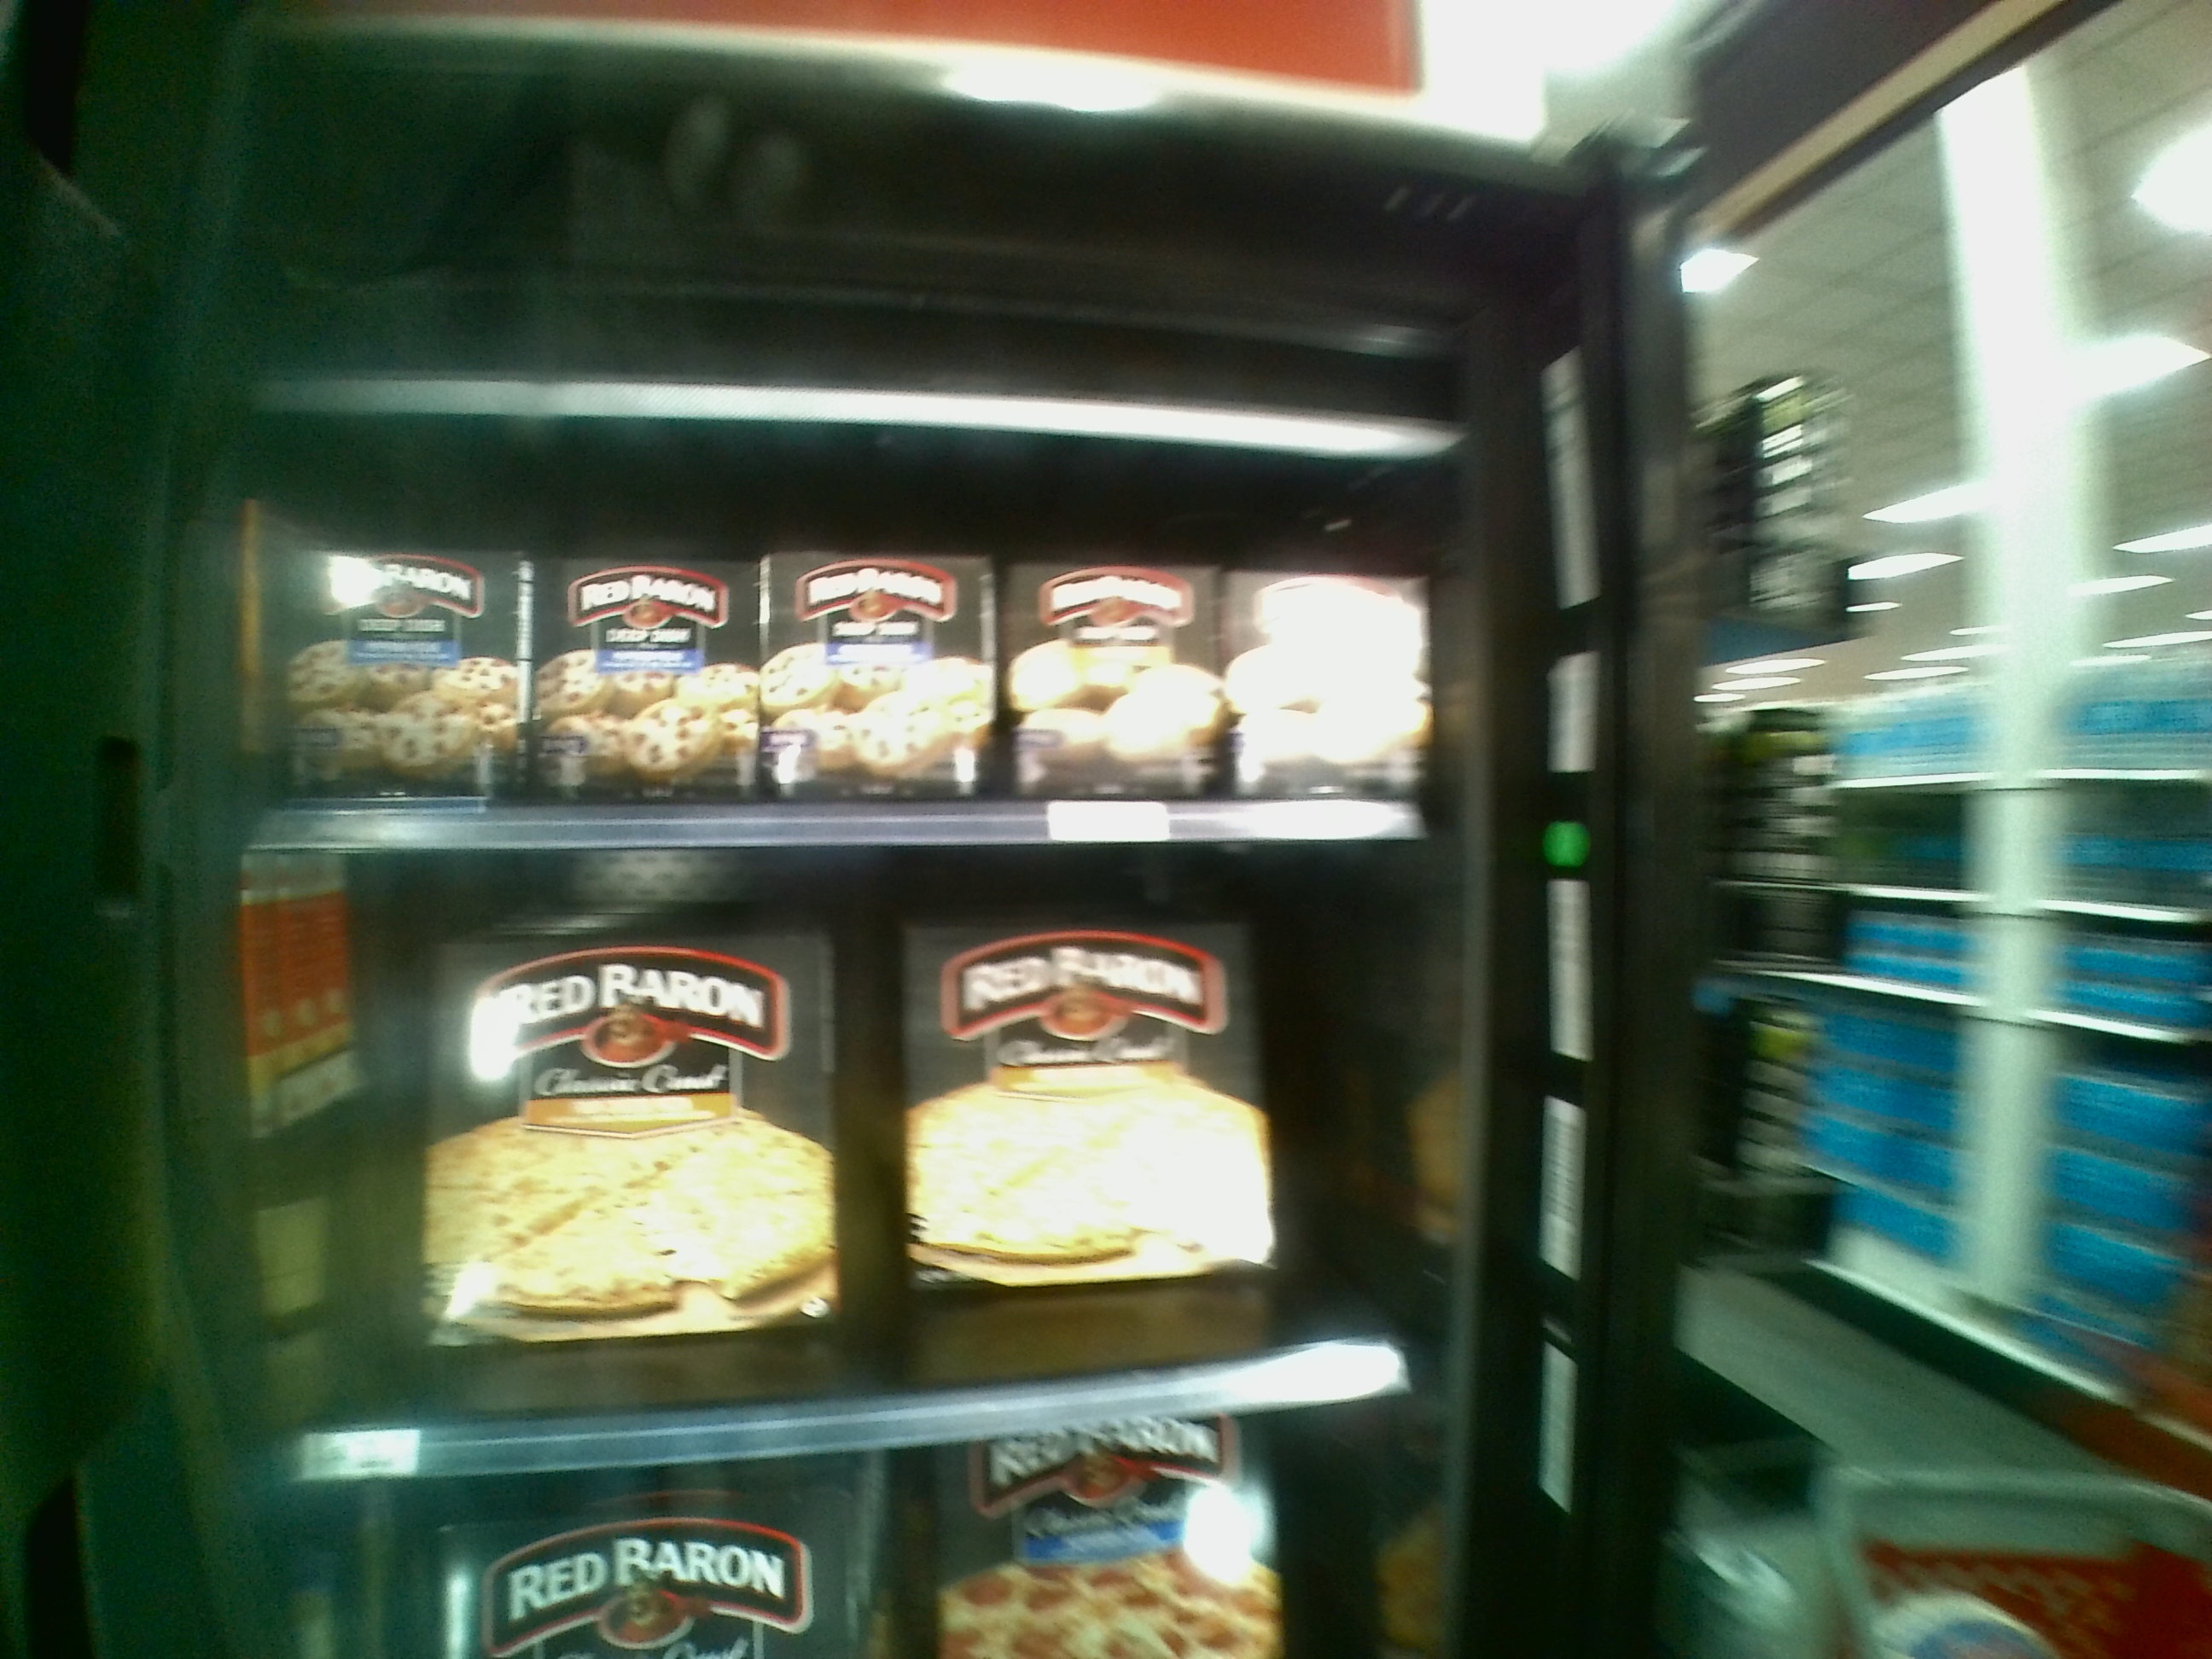shelf: (287, 845, 1453, 1464), (260, 401, 1426, 845)
